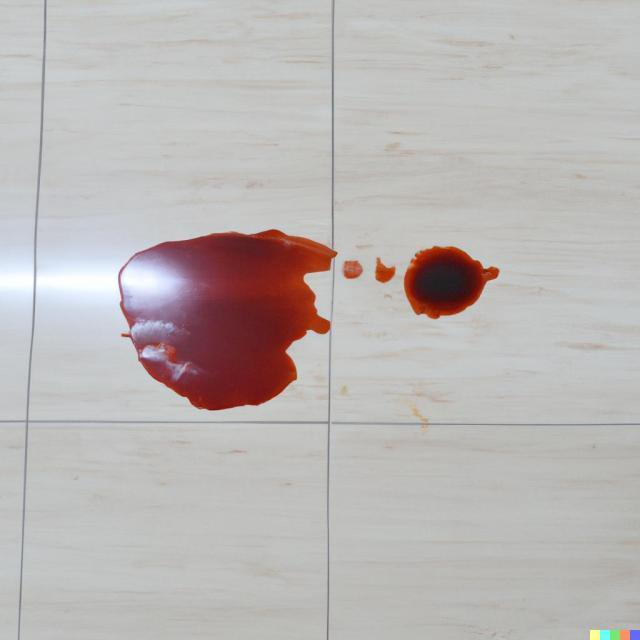Bloodstain-Detection: (137, 253, 274, 396), (429, 262, 459, 309)
